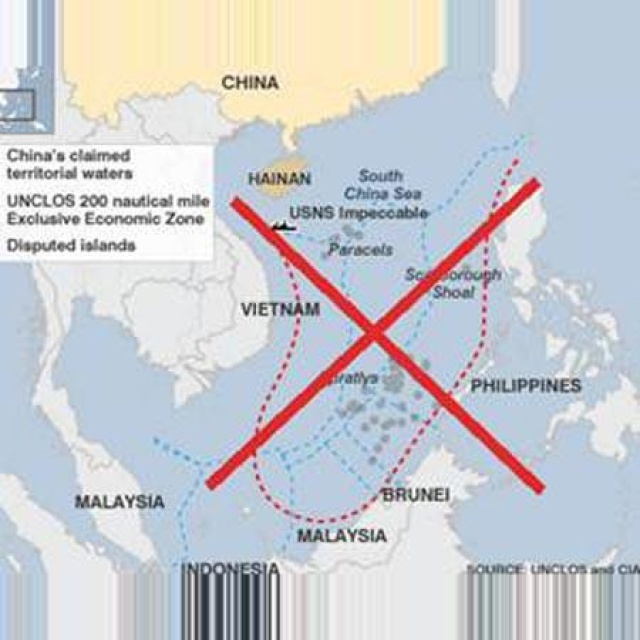Nine Dash Line: (243, 149, 521, 594)
